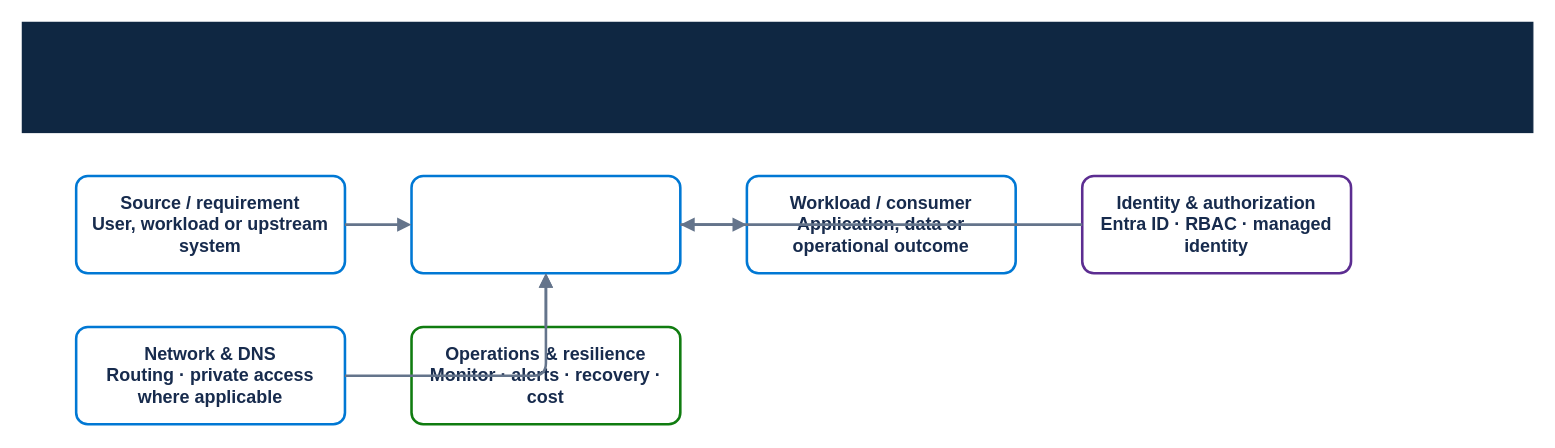
Some shapes in this 1555 by 448 pixel diagram are drawn without their labels. The centre of each missing label's shape, as x and y in pixels:
"Virtual Networks (VNet)" goes at pixel 777 76.
"Virtual Networks (VNet) Azure service / architecture control" goes at pixel 545 224.
